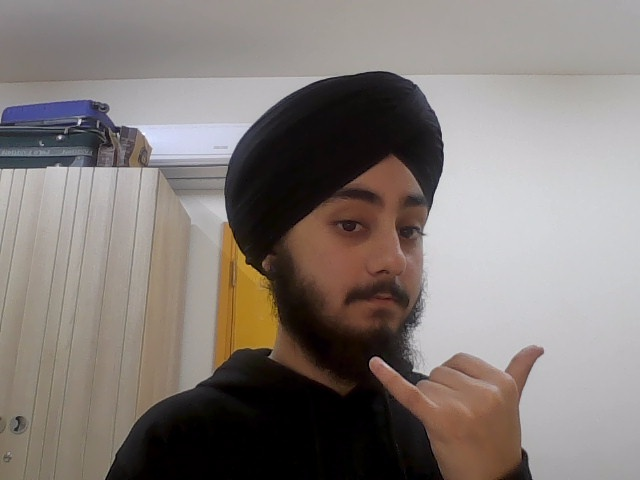Wrong: (364, 331, 563, 480)
